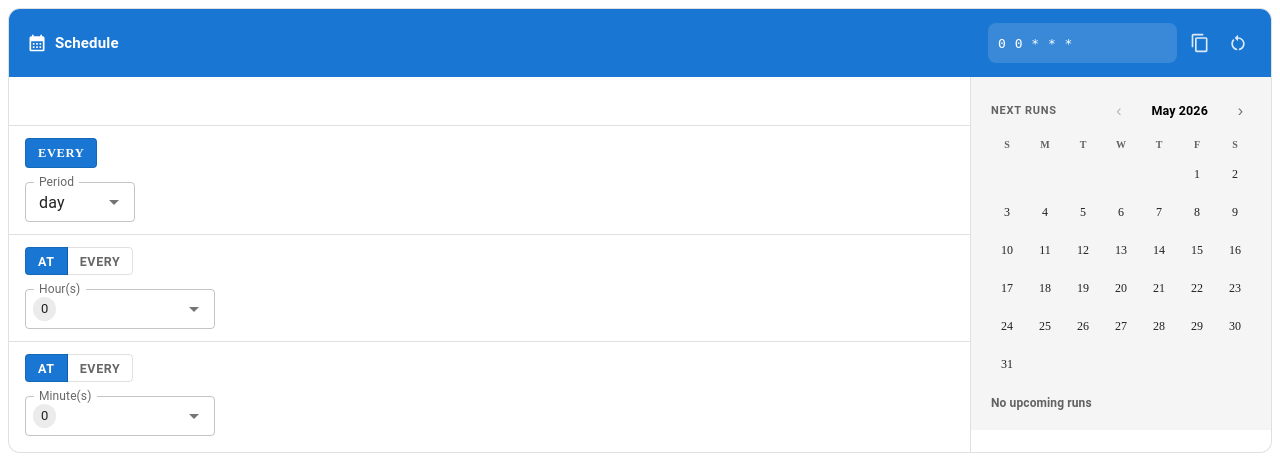
it: Scheduler redesign (browser) › shows the invalid-schedule message when the cron becomes invalid
The image size is (1280, 470).
Replace the text in the field showing "0 0 * * *" with "60 * * * *". click: {"x": 1082, "y": 43}
box: [988,34,1177,52]
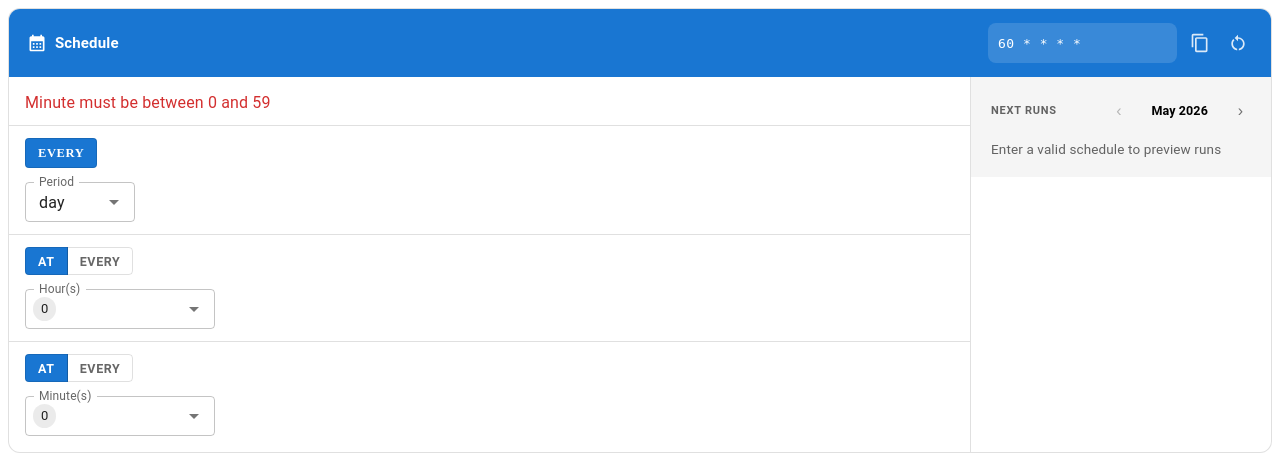
Check: the text "Enter a valid schedule to preview runs" is shown, box [991,139,1251,159]
